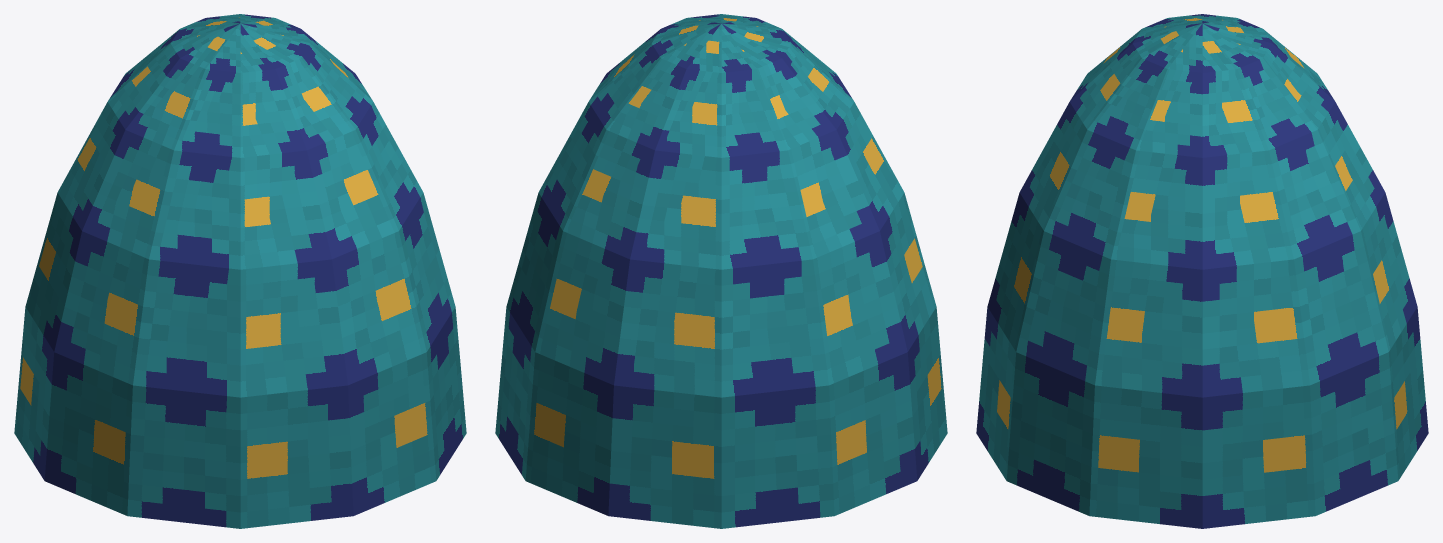
Rendered from dome_tile.glb.
The picture shows the model from 3 angles, left to right: view 1: azimuth 30°, elevation 25°; view 2: azimuth 150°, elevation 25°; view 3: azimuth 270°, elevation 25°; orthographic projection.
Visible parts, largest first — view 1: dome_tile; view 2: dome_tile; view 3: dome_tile.
Part boxes in pixels (x1,y1,x2,y2): dome_tile: (14, 14, 466, 528); dome_tile: (495, 14, 947, 528); dome_tile: (976, 14, 1428, 528).
Size of the model in its own units: 1 by 1 by 1.
1 material, 1 textured.
